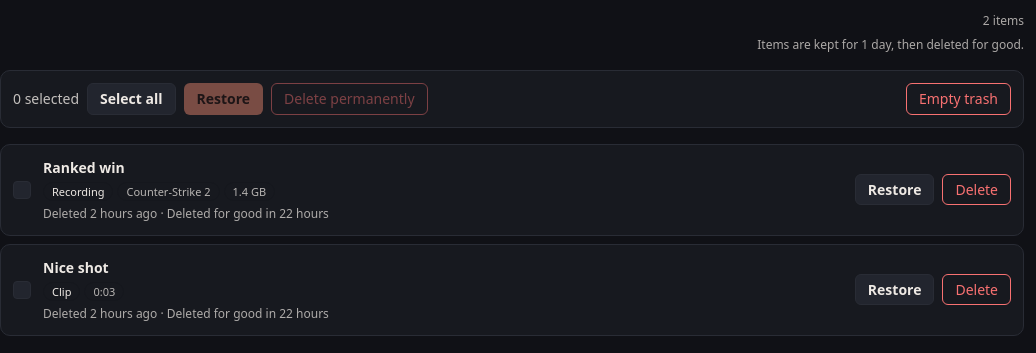
Test: TrashList restore › restores the whole selection
This screenshot has width=1036, height=353.
Click the button "Select all".
click(131, 99)  # box [87,83,176,114]
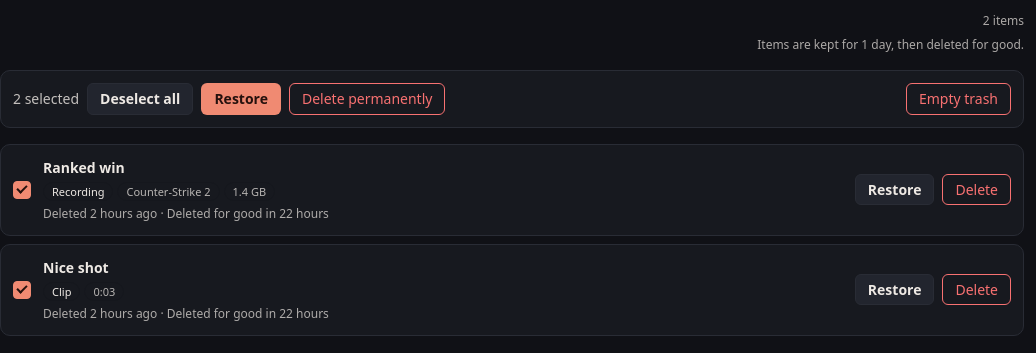
Result: the text with test id "trash-selection-count" reads "2 selected" at [13,88,79,109]
Click the button "Restore" in the row of "selected".
click(241, 99)  # box [201,83,281,114]
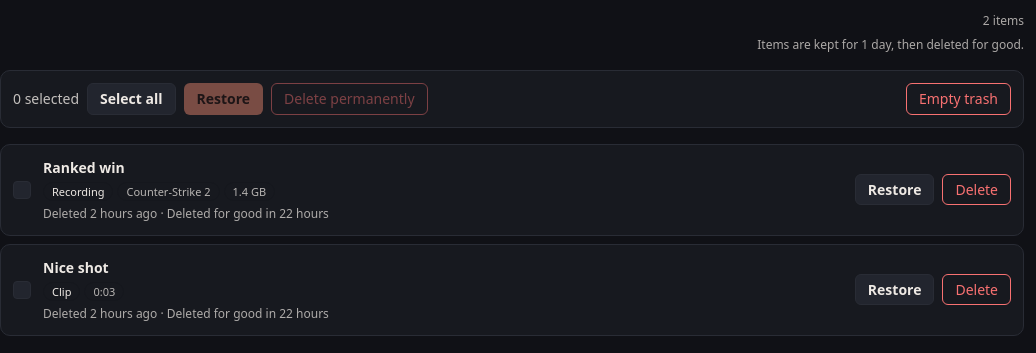
Result: the text with test id "trash-selection-count" reads "0 selected" at [13,88,79,109]
